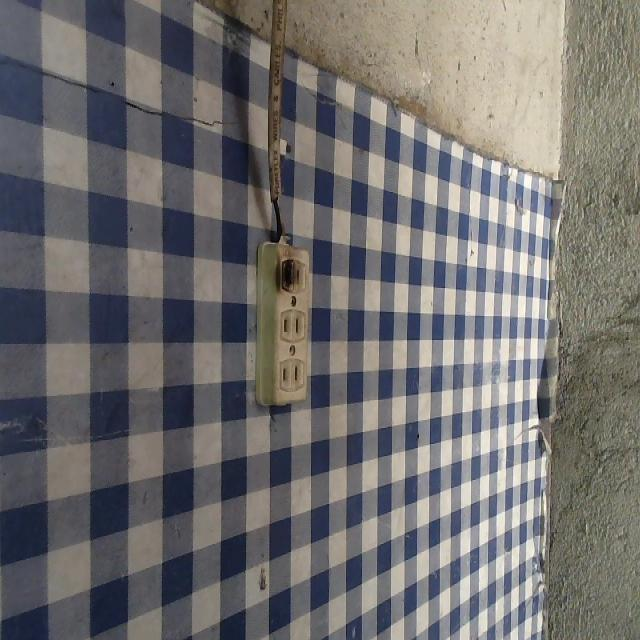-: (276, 255, 297, 297)
